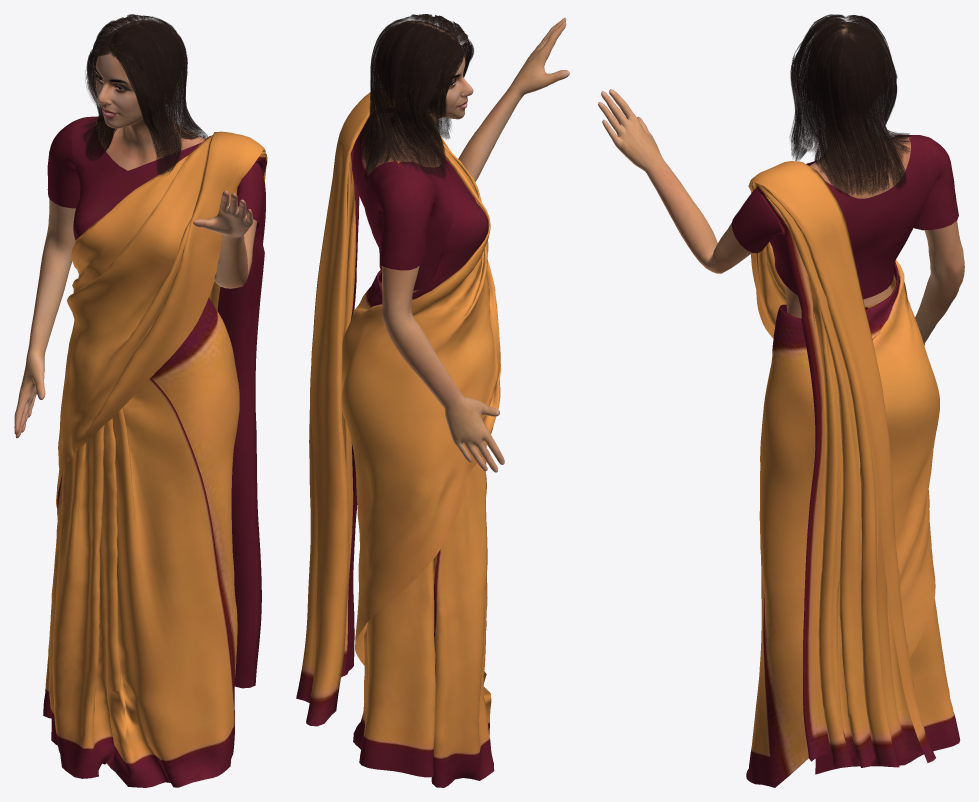
The model's file is DrinkingScene_Women.gltf.
The picture shows the model from 3 angles, left to right: view 1: azimuth 30°, elevation 25°; view 2: azimuth 150°, elevation 25°; view 3: azimuth 270°, elevation 25°; orthographic projection.
Parts seen in each view (by area): view 1: Object_15.001, Object_16, Object_7.001, Object_9.006; view 2: Object_15.001, Object_16, Object_7.001, Object_9.006; view 3: Object_15.001, Object_16, Object_7.001, Object_9.006.
Part boxes in pixels (x1=…): Object_15.001: x1=43, y1=116, x2=267, y2=787; Object_16: x1=81, y1=14, x2=207, y2=175; Object_7.001: x1=14, y1=122, x2=257, y2=438; Object_9.006: x1=95, y1=20, x2=203, y2=170; Object_15.001: x1=296, y1=91, x2=500, y2=787; Object_16: x1=359, y1=14, x2=473, y2=183; Object_7.001: x1=363, y1=17, x2=569, y2=472; Object_9.006: x1=367, y1=20, x2=473, y2=168; Object_15.001: x1=731, y1=134, x2=960, y2=787; Object_16: x1=789, y1=14, x2=911, y2=196; Object_7.001: x1=598, y1=89, x2=964, y2=345; Object_9.006: x1=809, y1=22, x2=908, y2=189.
Bounding box in the file's own units: 4.9 × 16.63 × 7.35.
7 materials, 6 textured.
